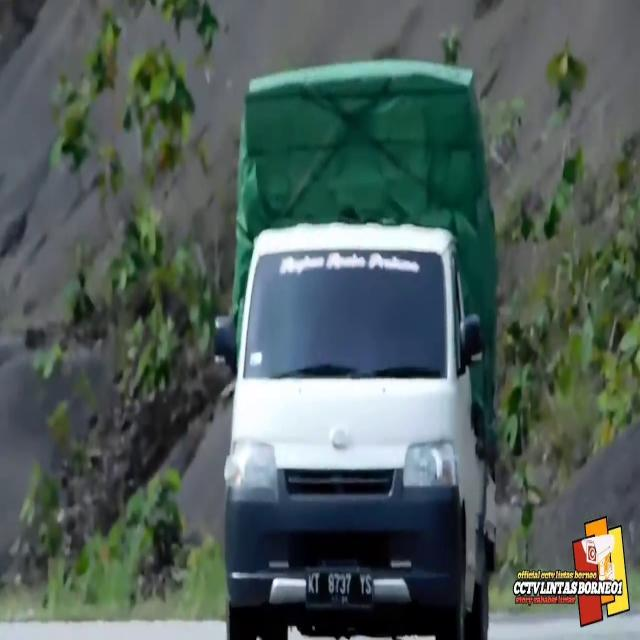Golongan IVB: (224, 224, 500, 638)
